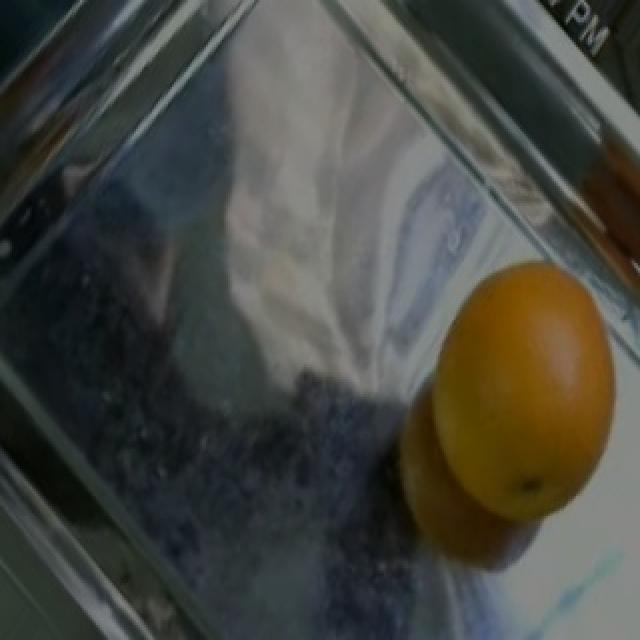Fruit: (402, 258, 638, 546)
